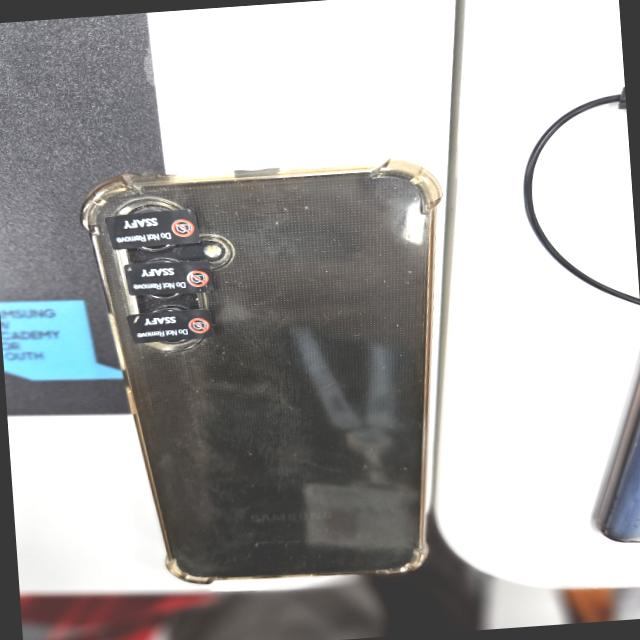phone: (73, 154, 466, 594)
sticker: (96, 202, 196, 248), (117, 253, 214, 300), (120, 302, 220, 345)
